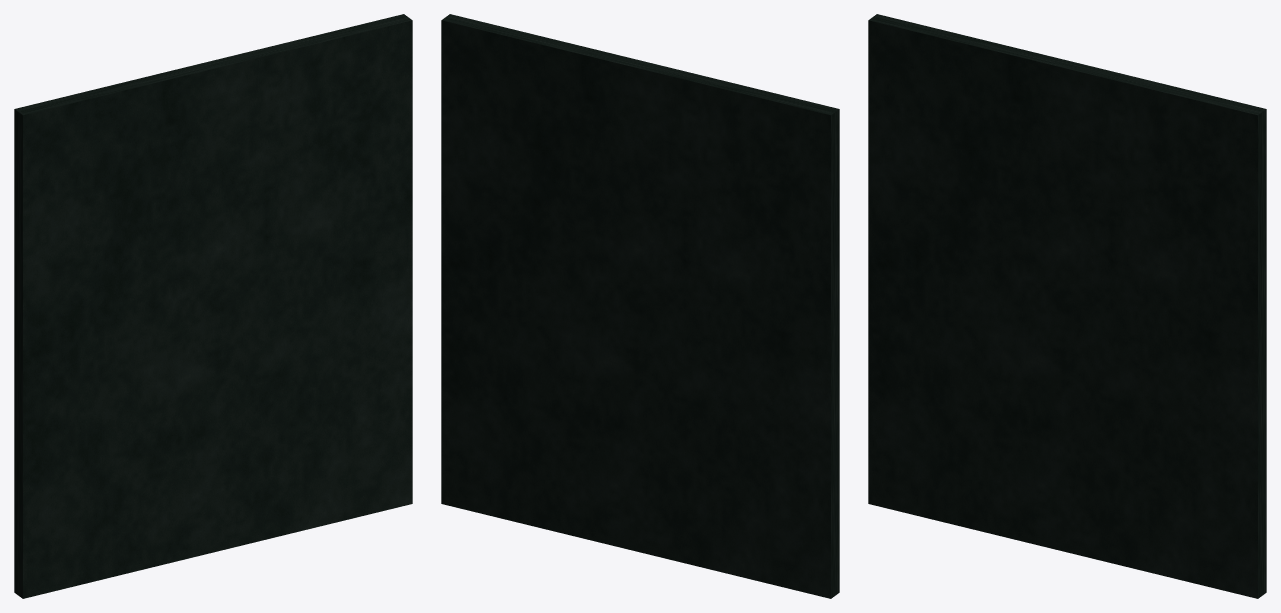
Rendered from local.glb.
3 renders of one model, left to right at view 1: azimuth 30°, elevation 25°; view 2: azimuth 150°, elevation 25°; view 3: azimuth 330°, elevation 25°, orthographic.
Parts seen in each view (by area): view 1: tabletop; view 2: tabletop; view 3: tabletop.
Part boxes in pixels (<box>): tabletop: <box>14,14,412,598</box>; tabletop: <box>441,14,839,598</box>; tabletop: <box>868,14,1266,598</box>.
Size of the model in its own units: 1.18 by 1.4 by 0.045.
Materials: 1 (1 with a texture image).
